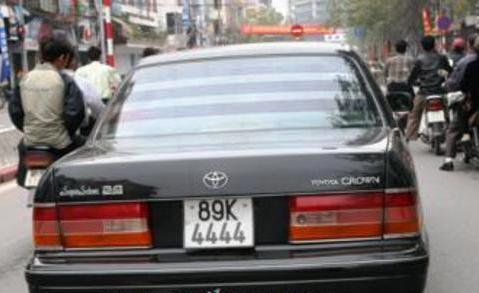numplate: (180, 194, 254, 248)
